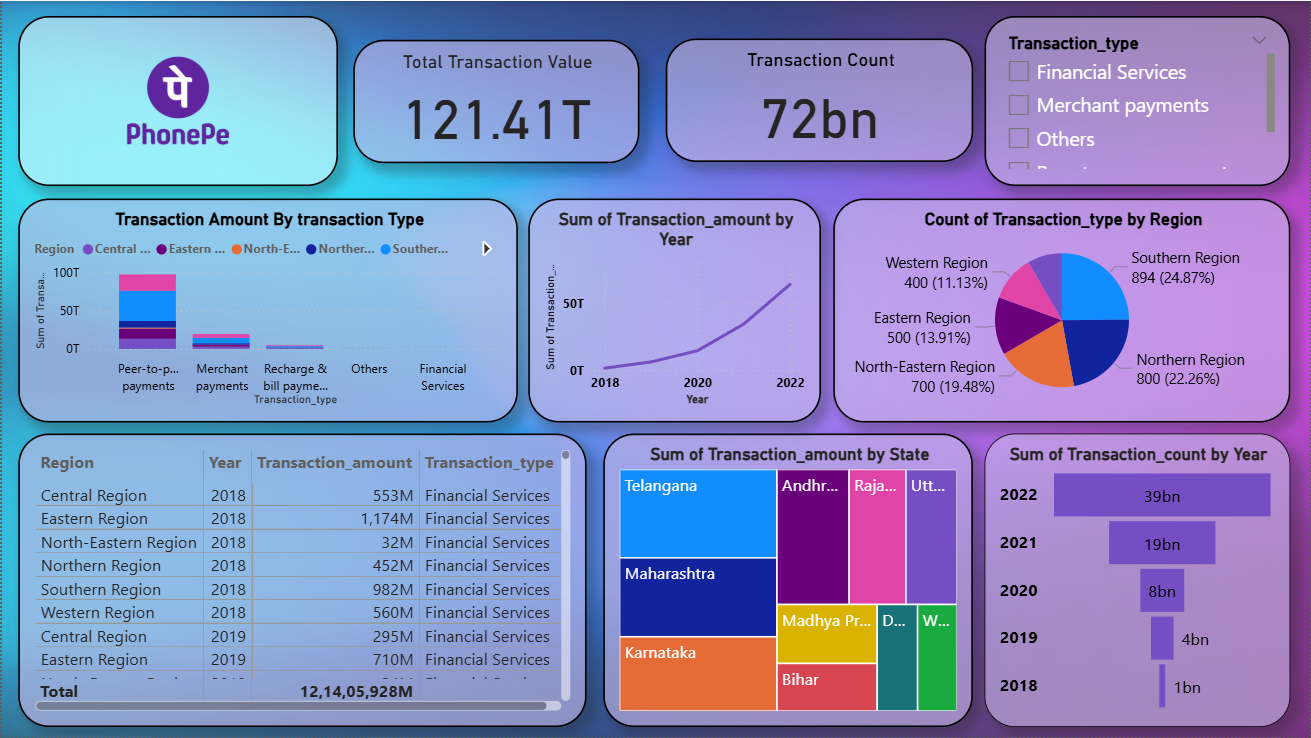

This screenshot's page, from the dashboard's own definition file:
{"tool":"powerbi","page":{"name":"Page 1","canvas":[1280,720],"ordinal":0},"visuals":[{"type":"card","title":"Total Transaction Value","fields":{"Values":["Sum(agg_trans (2).Transaction_amount)"]},"box":[343.1,38.4,279.9,120.8],"z":0},{"type":"card","title":"Transaction Count","fields":{"Values":["Sum(agg_trans (2).Transaction_count)"]},"box":[649.3,36.7,300.8,121.1],"z":1000},{"type":"slicer","fields":{"Values":["agg_trans (2).Transaction_type"]},"box":[961.1,14.7,299.6,166.3],"z":2000},{"type":"image","box":[16.5,15.1,312.9,166],"z":3000},{"type":"columnChart","title":"Transaction Amount By transaction Type","fields":{"Category":["agg_trans (2).Transaction_type"],"Y":["Sum(agg_trans (2).Transaction_amount)"],"Series":["agg_trans (2).Region"]},"box":[15.9,193.2,489.1,218.9],"z":4000},{"type":"pieChart","fields":{"Y":["CountNonNull(agg_trans (2).Transaction_type)"],"Category":["agg_trans (2).Region"]},"box":[813.2,193.2,447.6,218.9],"z":5000},{"type":"tableEx","fields":{"Values":["agg_trans (2).Region","agg_trans (2).Year","Sum(agg_trans (2).Transaction_amount)","agg_trans (2).Transaction_type"]},"box":[15.9,423.1,556.4,287.4],"z":6000},{"type":"treemap","title":"Sum of Transaction_amount by State","fields":{"Group":["agg_trans (2).State"],"Values":["Sum(agg_trans (2).Transaction_amount)"]},"box":[588.2,423.1,362,287.4],"z":7000},{"type":"funnel","fields":{"Category":["agg_trans (2).Year"],"Y":["Sum(agg_trans (2).Transaction_count)"]},"box":[961.1,423.1,299.6,287.4],"z":8000},{"type":"lineChart","fields":{"Category":["agg_trans (2).Year"],"Y":["Sum(agg_trans (2).Transaction_amount)"]},"box":[514.8,193.2,286.1,218.9],"z":9000}]}

Visuals, with their boxes in screenshot pixels (x1, y1, x2, y2), scaled from the page's 1280x720 canvas onto the 1311x738 screenshot:
"Total Transaction Value" card: pyautogui.locateOnScreen(351, 39, 638, 163)
"Transaction Count" card: pyautogui.locateOnScreen(665, 38, 973, 162)
slicer - agg_trans (2).Transaction_type: pyautogui.locateOnScreen(984, 15, 1291, 186)
image: pyautogui.locateOnScreen(17, 15, 337, 186)
"Transaction Amount By transaction Type" columnChart: pyautogui.locateOnScreen(16, 198, 517, 422)
pieChart - CountNonNull(agg_trans (2).Transaction_type) x agg_trans (2).Region: pyautogui.locateOnScreen(833, 198, 1291, 422)
tableEx - agg_trans (2).Region x agg_trans (2).Year: pyautogui.locateOnScreen(16, 434, 586, 728)
"Sum of Transaction_amount by State" treemap: pyautogui.locateOnScreen(602, 434, 973, 728)
funnel - agg_trans (2).Year x Sum(agg_trans (2).Transaction_count): pyautogui.locateOnScreen(984, 434, 1291, 728)
lineChart - agg_trans (2).Year x Sum(agg_trans (2).Transaction_amount): pyautogui.locateOnScreen(527, 198, 820, 422)
